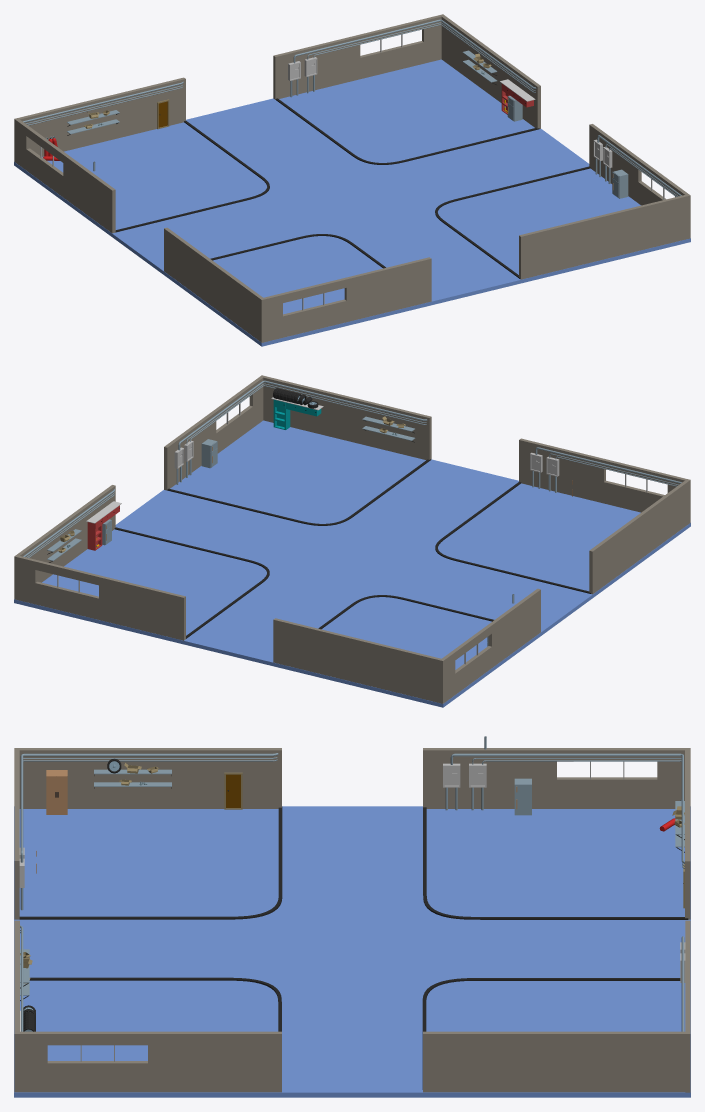
The model's file is level.fbx.
3 renders of one model, top to bottom at view 1: azimuth 30°, elevation 25°; view 2: azimuth 150°, elevation 25°; view 3: azimuth 270°, elevation 25°, orthographic. The views are drawn at different scales.
Visible parts, largest first — view 1: wall1_pCube48; view 2: wall1_pCube48; view 3: wall1_pCube48.
Boxes of the visible parts, <box> form: wall1_pCube48: <box>14,14,690,346</box>; wall1_pCube48: <box>14,375,690,707</box>; wall1_pCube48: <box>14,736,690,1097</box>.
Size of the model in its own units: 36.67 by 4.66 by 36.67.
